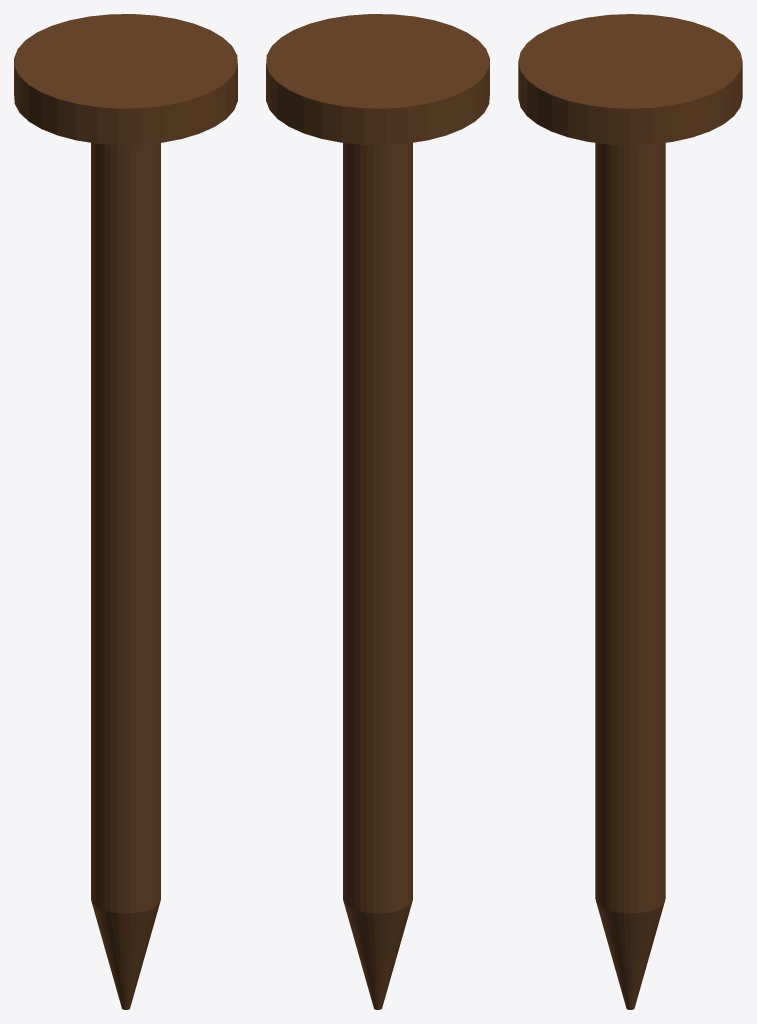
The model's file is screw u too_.gltf.
3 renders of one model, left to right at view 1: azimuth 30°, elevation 25°; view 2: azimuth 150°, elevation 25°; view 3: azimuth 270°, elevation 25°, orthographic.
Parts seen in each view (by area): view 1: Cylinder.002; view 2: Cylinder.002; view 3: Cylinder.002.
Part boxes in pixels (x1,y1,x2,y2): Cylinder.002: (14, 14, 237, 1009); Cylinder.002: (266, 14, 489, 1009); Cylinder.002: (518, 14, 742, 1009).
Bounding box in the file's own units: 0.985 × 4.59 × 0.985.
